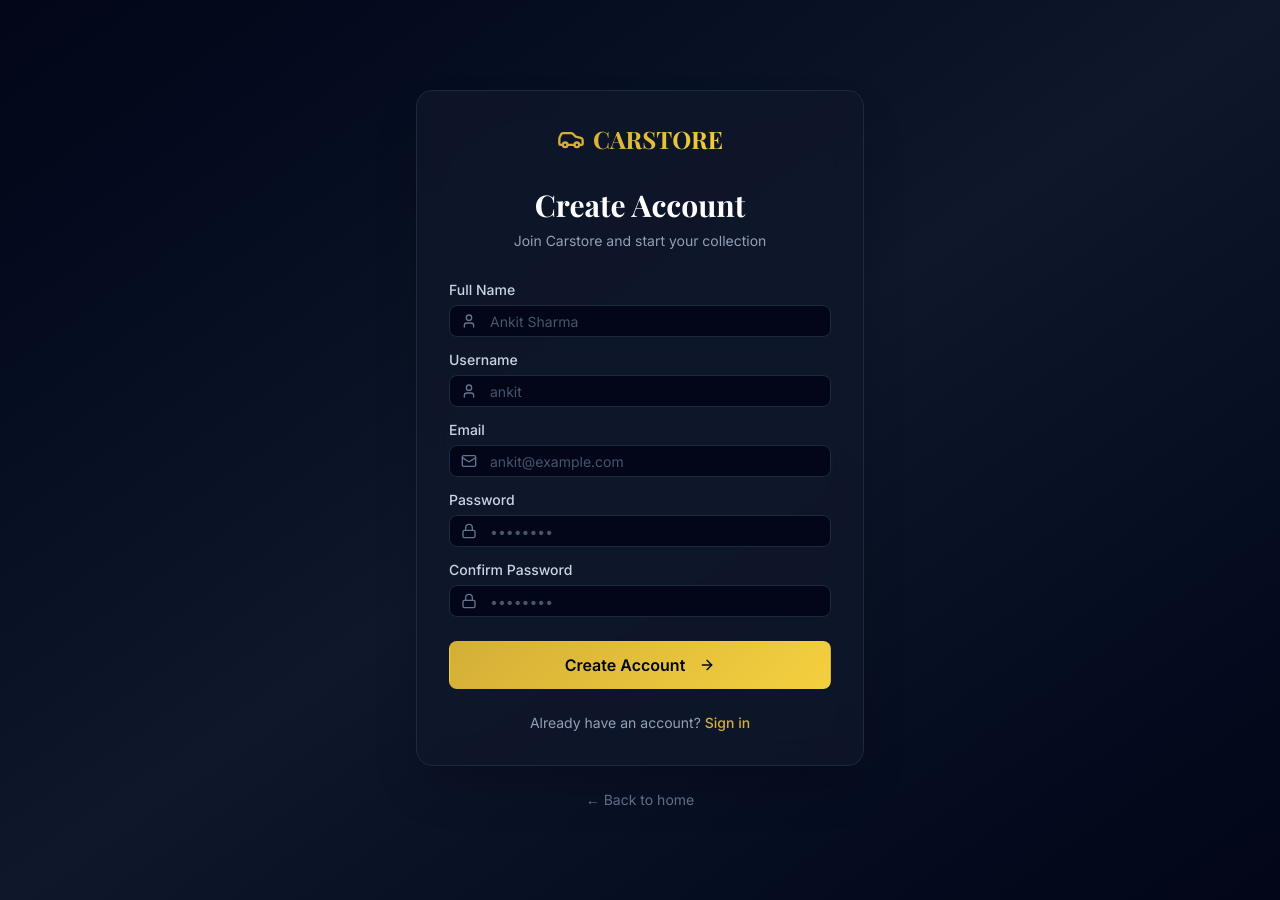
it: RegisterPage Component › displays validation errors when submitting empty form
Step 1. Click the button "Create Account" → (640, 665), box [449, 641, 831, 689]
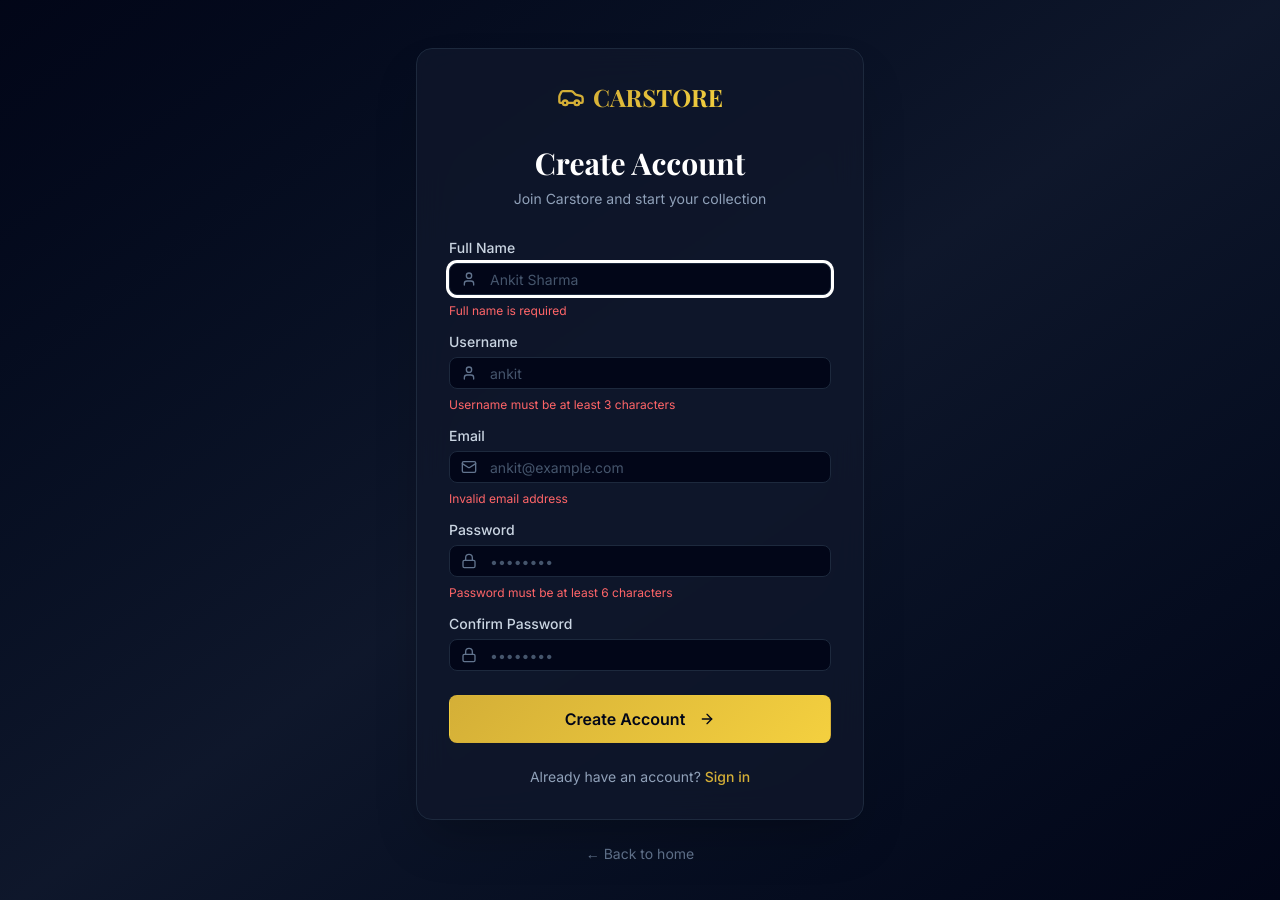
Now the text "Full name is required" is shown, box [449, 303, 567, 318]
Now the text "Username must be at least 3 characters" is shown, box [449, 397, 675, 412]
Now the text "Invalid email address" is shown, box [449, 491, 568, 506]
